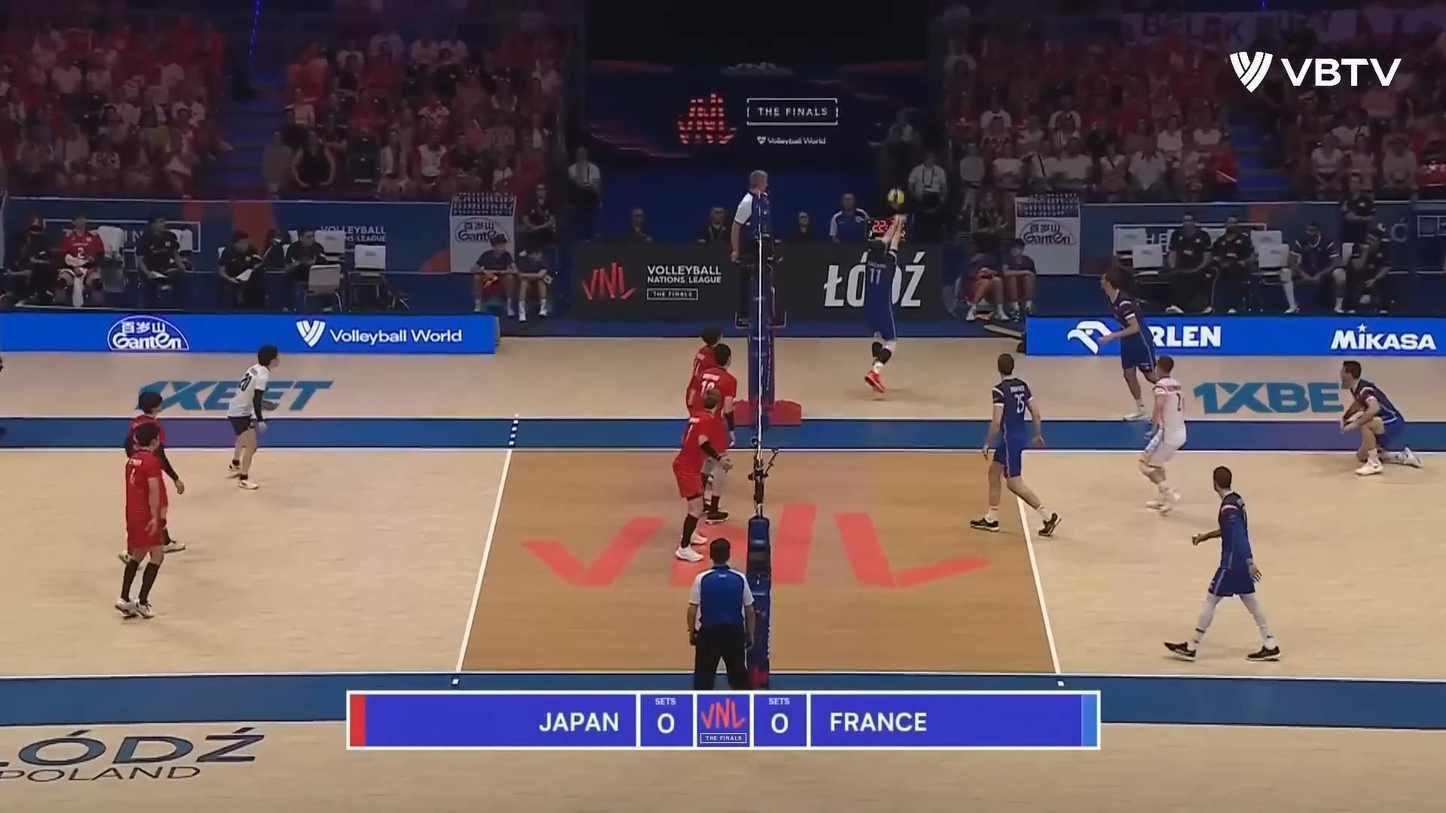ball: (886, 187, 906, 208)
